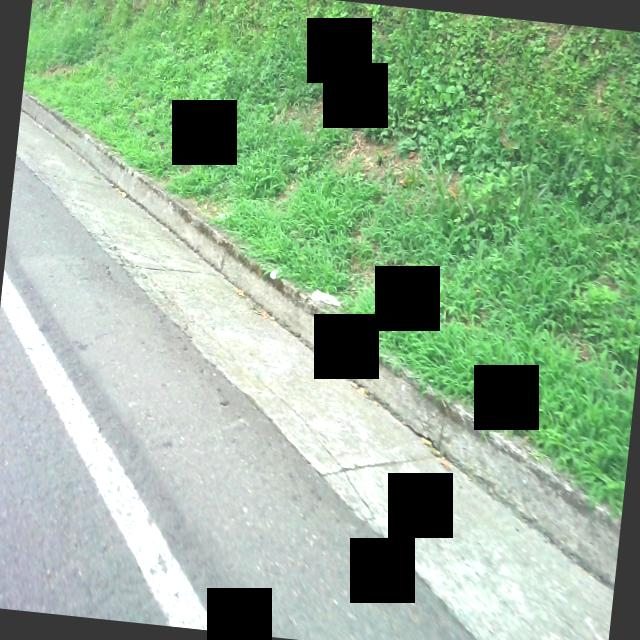DITCH: (0, 44, 640, 640), (0, 87, 640, 640)
